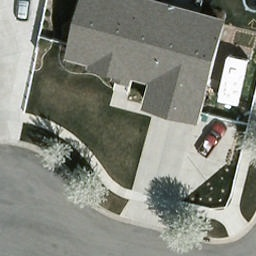camping car: (216, 54, 250, 112)
car: (15, 0, 33, 21)
pickup: (196, 121, 228, 158)
